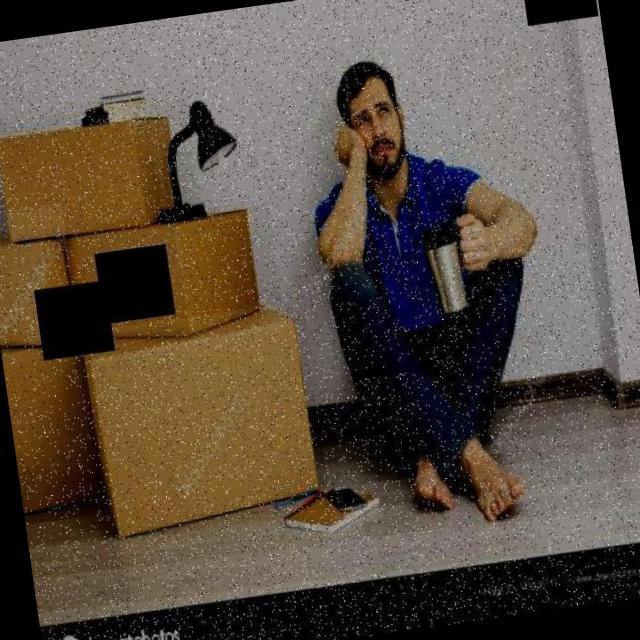box: (66, 301, 334, 556), (66, 200, 286, 356), (0, 96, 205, 260), (0, 318, 116, 545), (0, 202, 83, 369)
